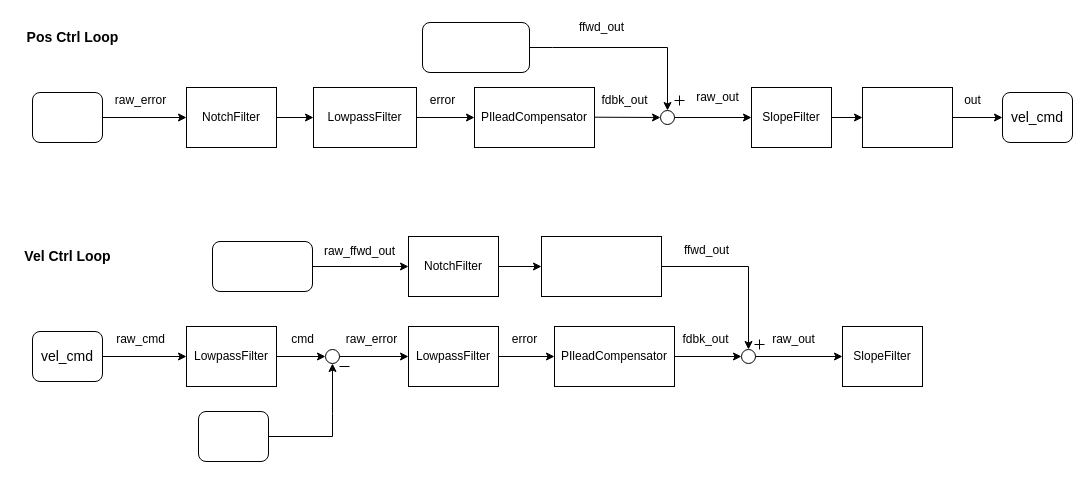
Some shapes in this 1090 by 479 pixel diagram are drawn without their labels. The box of each missing label's shape, as (x1, y1, x2, y2) in pixels:
leadCompensator: (540, 236, 662, 296)
lon_error: (32, 92, 102, 142)
SaturationLimit: (862, 86, 952, 148)
target_acc_cmd: (212, 240, 312, 292)
target_vel_cmd: (422, 22, 530, 72)
vel: (198, 410, 268, 462)
